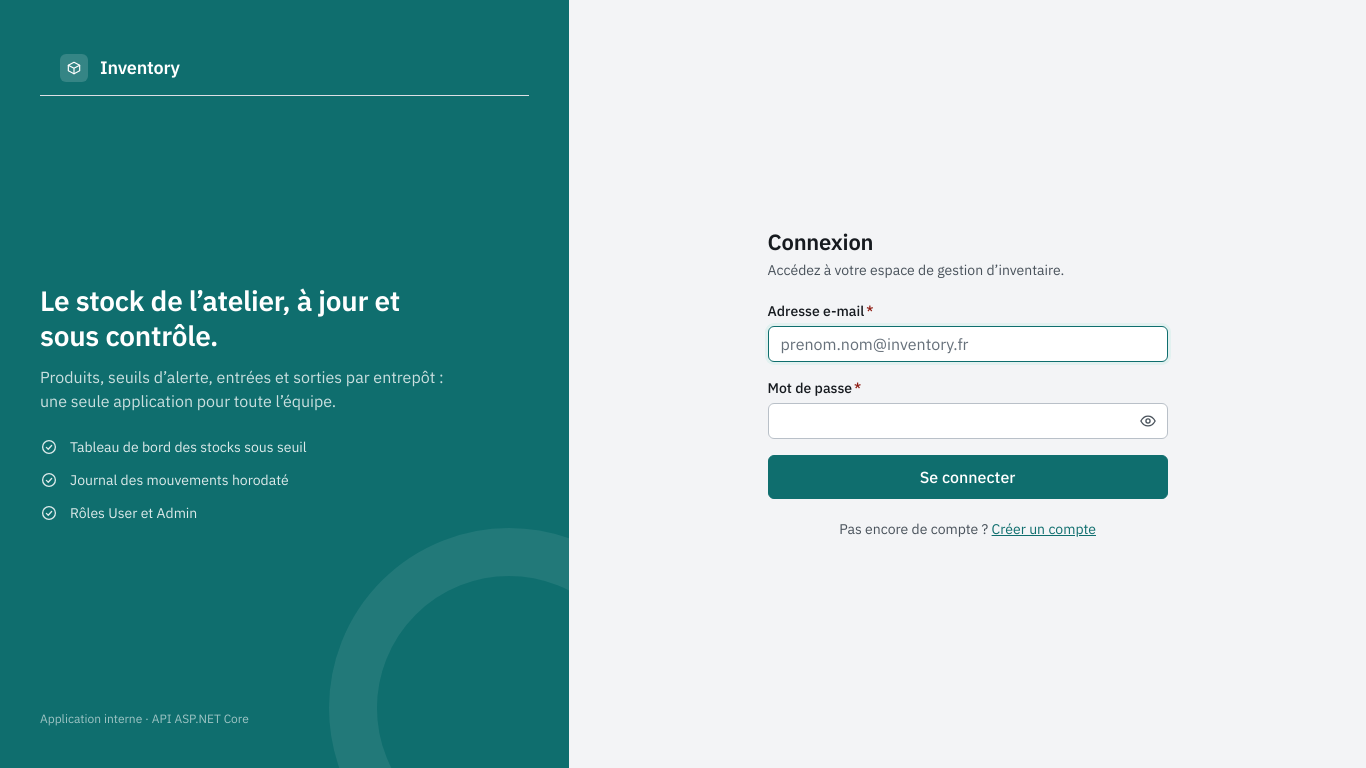
Scenario: PublicOnly › returns to the requested page after signing in
Check: the heading "Connexion" is shown, box [768,227,873,256]
In the field labelled "Adresse e-mail*": (968, 344) [768,326,1168,362], type "admin@inventory.fr"
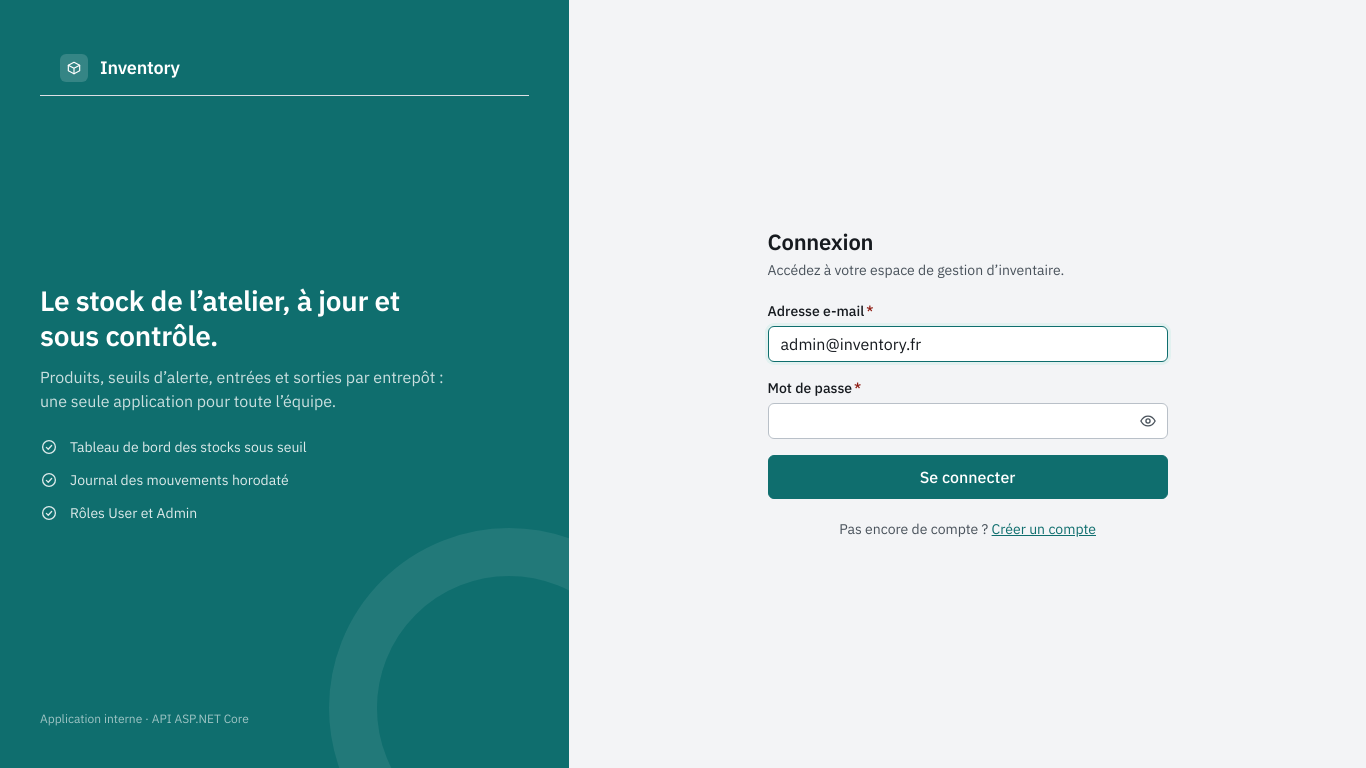
In the password field labelled "Mot de passe*": (968, 421) [768,403,1168,439], type "Admin1234!"
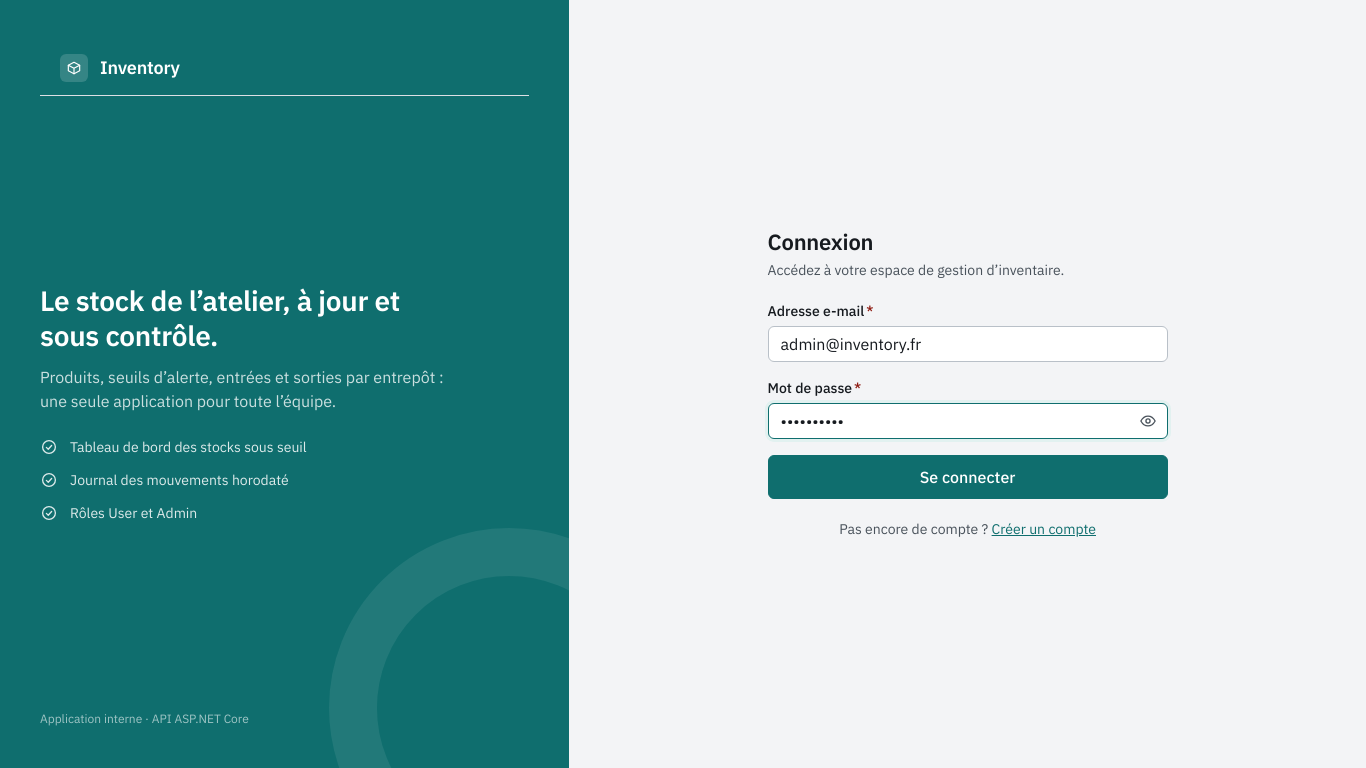
Click the button "Se connecter": (968, 477) [768,455,1168,499]
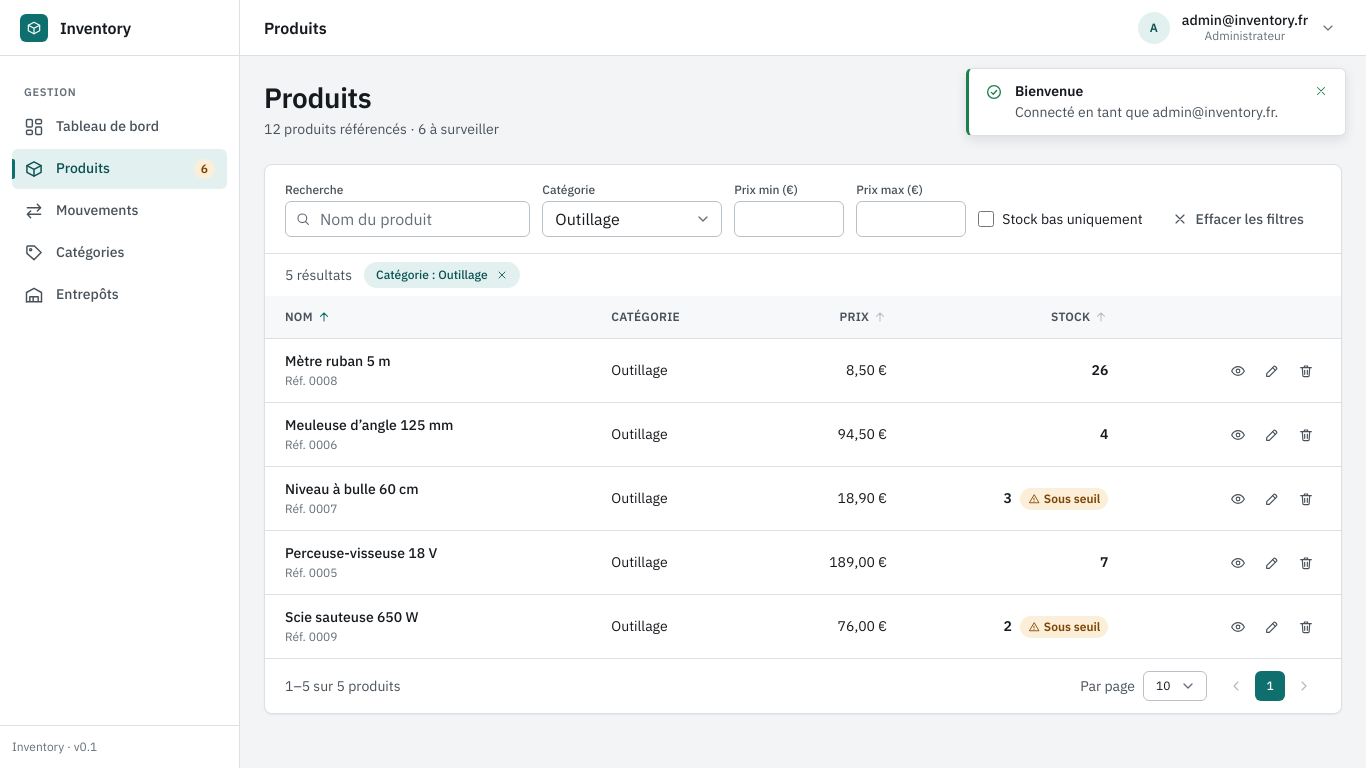
Check: the heading "Produits" is shown, box [264,79,372,116]
Check: the text "Bienvenue" is shown, box [1015,82,1083,100]
